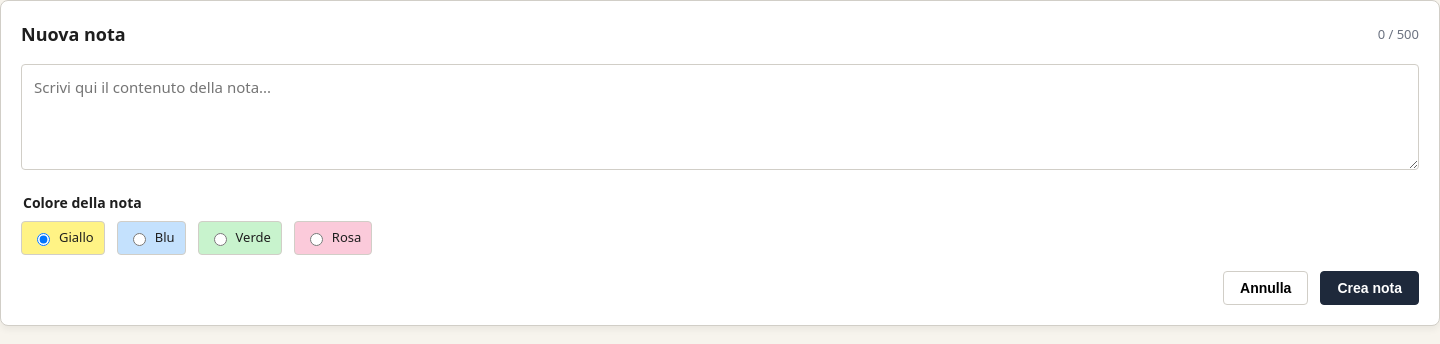
Test: NoteEditor.vue › updates character counter when typing content
This screenshot has width=1440, height=344.
Type "Valid note content" into the text box with placeholder "Scrivi qui il contenuto della nota...".
click(720, 117); type("Valid note content")  # box top-left (21, 64), bottom-right (1419, 170)
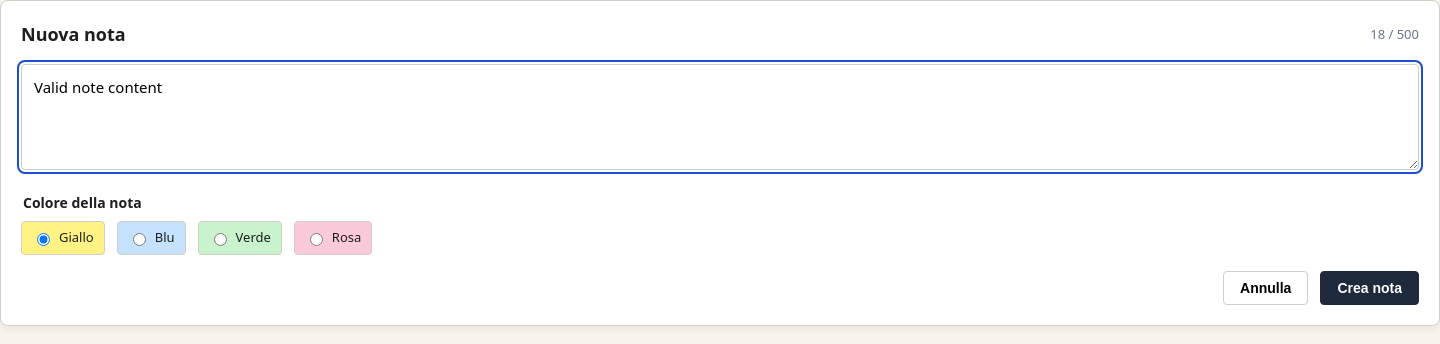
Result: the text with class "note-editor__counter" reads "18 / 500" at top-left (1370, 25), bottom-right (1419, 43)
